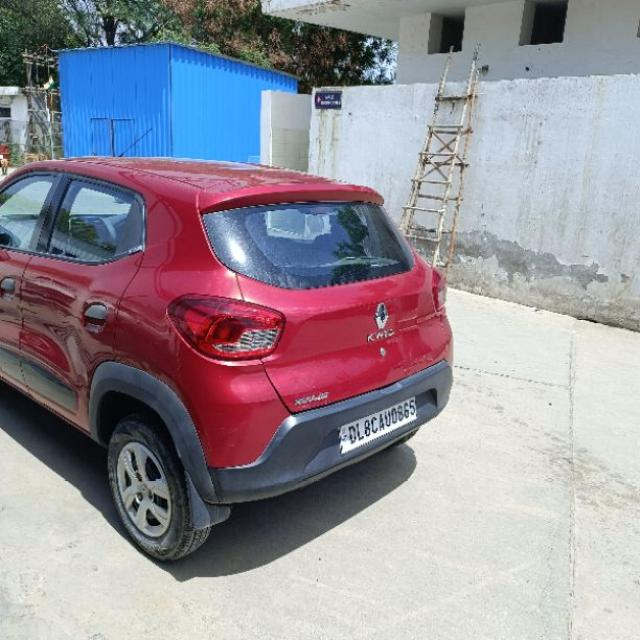license_plate: (337, 395, 418, 455)
